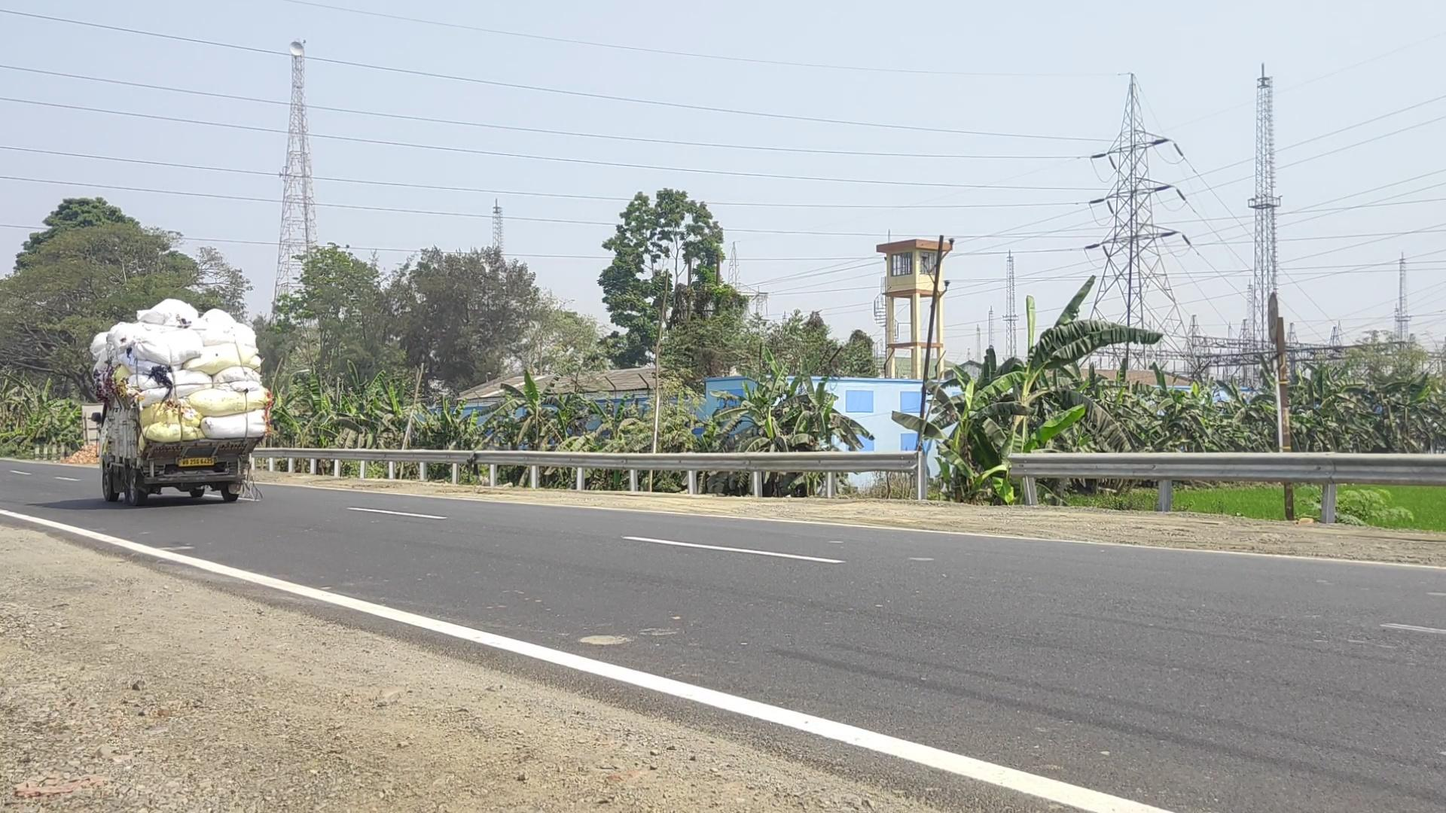van: (91, 300, 271, 506)
